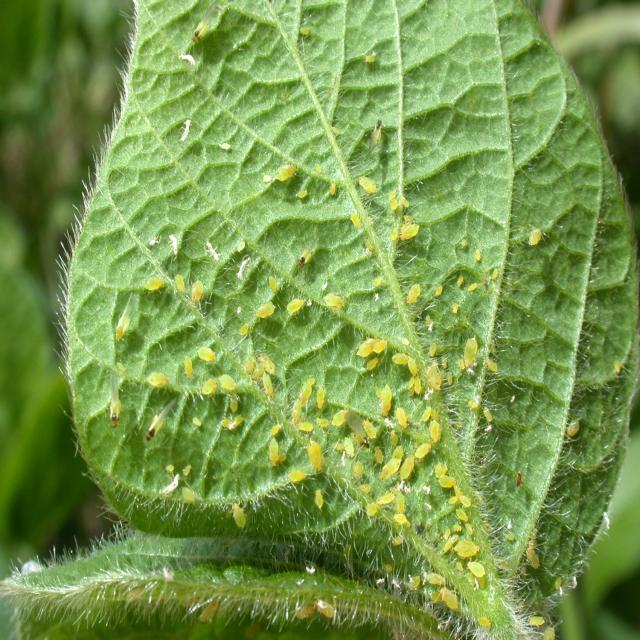Aphid-Grouped-: (304, 325, 493, 545)
Aphid-Grown-: (352, 163, 386, 210), (278, 291, 313, 324), (302, 435, 330, 475), (186, 276, 215, 311), (228, 496, 252, 532), (141, 269, 166, 302), (252, 292, 278, 323), (462, 331, 482, 370), (141, 366, 172, 390), (195, 340, 223, 366), (267, 160, 300, 182), (308, 486, 330, 519), (322, 287, 348, 314), (437, 586, 464, 612), (265, 436, 285, 471), (218, 369, 242, 398), (198, 374, 225, 399), (396, 453, 419, 480), (403, 278, 423, 307), (261, 372, 277, 407), (411, 439, 434, 462), (170, 270, 188, 298), (263, 270, 282, 296), (330, 402, 348, 429), (389, 350, 412, 368)
Aphid-Grown-have wings-: (140, 394, 183, 444), (104, 289, 141, 344), (104, 364, 129, 428), (294, 229, 322, 272)
